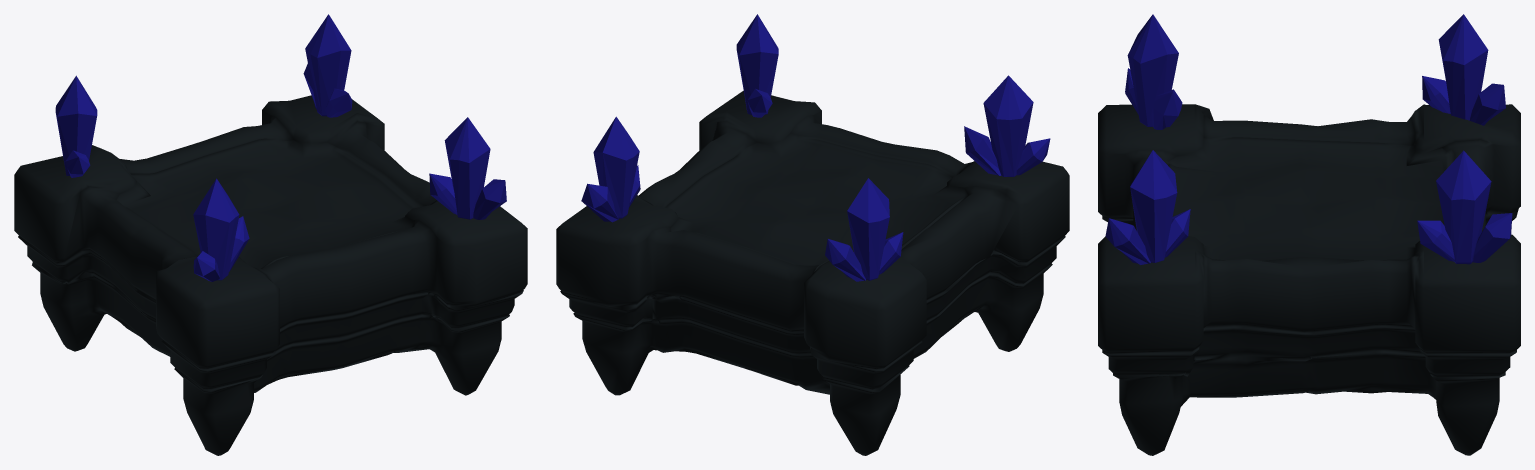
Rendered from platform.fbx.
The picture shows the model from 3 angles, left to right: view 1: azimuth 30°, elevation 25°; view 2: azimuth 150°, elevation 25°; view 3: azimuth 270°, elevation 25°; orthographic projection. The views are drawn at different scales.
Parts seen in each view (by area): view 1: Box003, Cylinder002, Cylinder001, Cylinder004, Cylinder003; view 2: Box003, Cylinder001, Cylinder003, Cylinder004, Cylinder002; view 3: Box003, Cylinder004, Cylinder002, Cylinder003, Cylinder001.
Part boxes in pixels (x1,y1,x2,y2): Box003: [14, 95, 527, 455]; Cylinder002: [429, 117, 506, 219]; Cylinder001: [193, 178, 249, 281]; Cylinder004: [303, 14, 352, 117]; Cylinder003: [55, 75, 97, 177]; Box003: [556, 91, 1069, 455]; Cylinder001: [964, 75, 1050, 176]; Cylinder003: [825, 178, 903, 281]; Cylinder004: [581, 116, 640, 222]; Cylinder002: [736, 14, 778, 117]; Box003: [1098, 104, 1520, 455]; Cylinder004: [1417, 150, 1512, 264]; Cylinder002: [1105, 150, 1190, 264]; Cylinder003: [1422, 14, 1505, 125]; Cylinder001: [1125, 14, 1182, 129].
Size of the model in its own units: 100 by 80.11 by 100.
